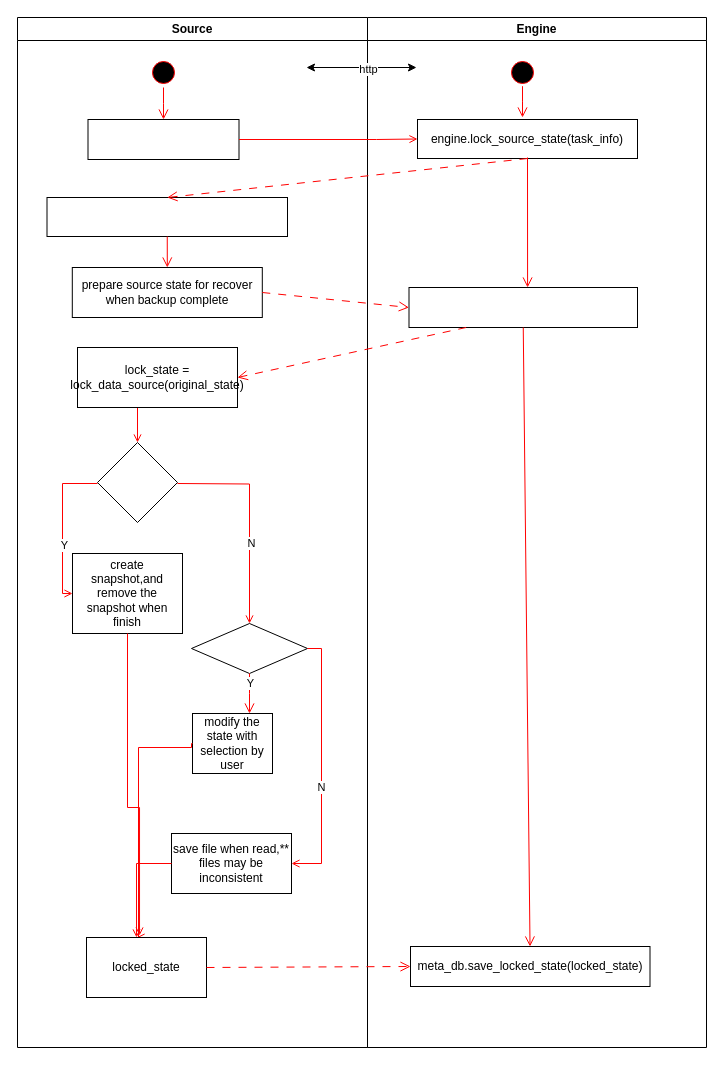
This 724x1065 diagram has some shape labels left out. The shapes that lost their labels are listed below. From the top down, each one's box as (x1, y1, x2, y2) in pixels, then its label:
(87, 118, 239, 160): start_interface_service
(46, 196, 288, 236): original_state = source.prepare_state_for_lock()
(408, 286, 638, 328): meta_db.save_original_state(original_state)
(96, 442, 178, 522): snapshot support
(190, 622, 308, 674): mv/cp?
